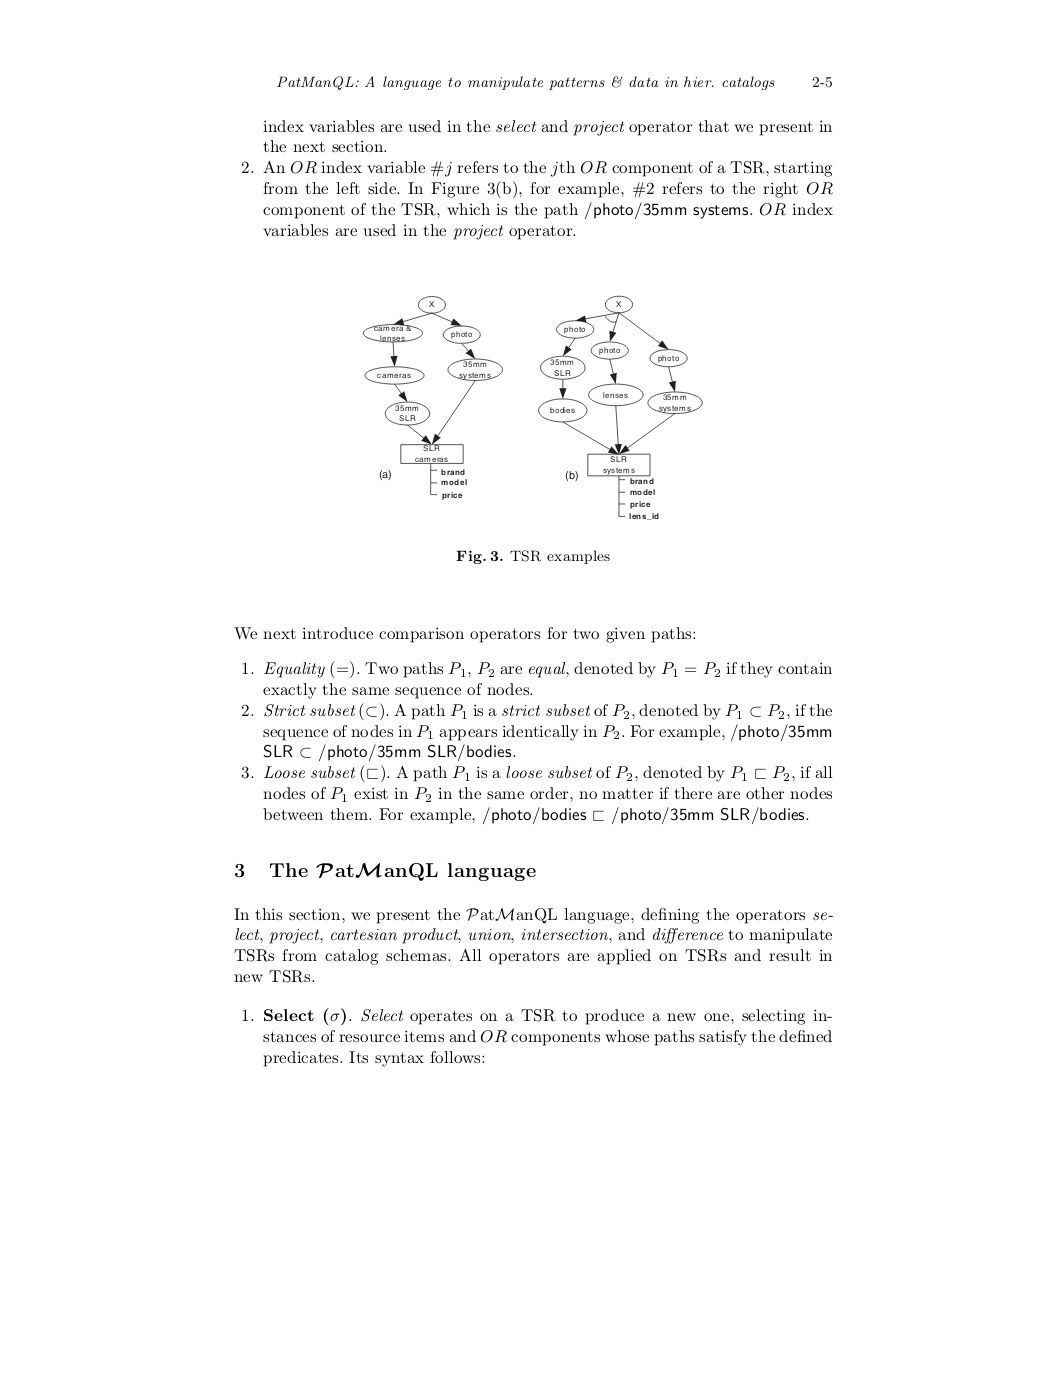figure: (538, 294, 702, 520), (362, 295, 502, 500)
